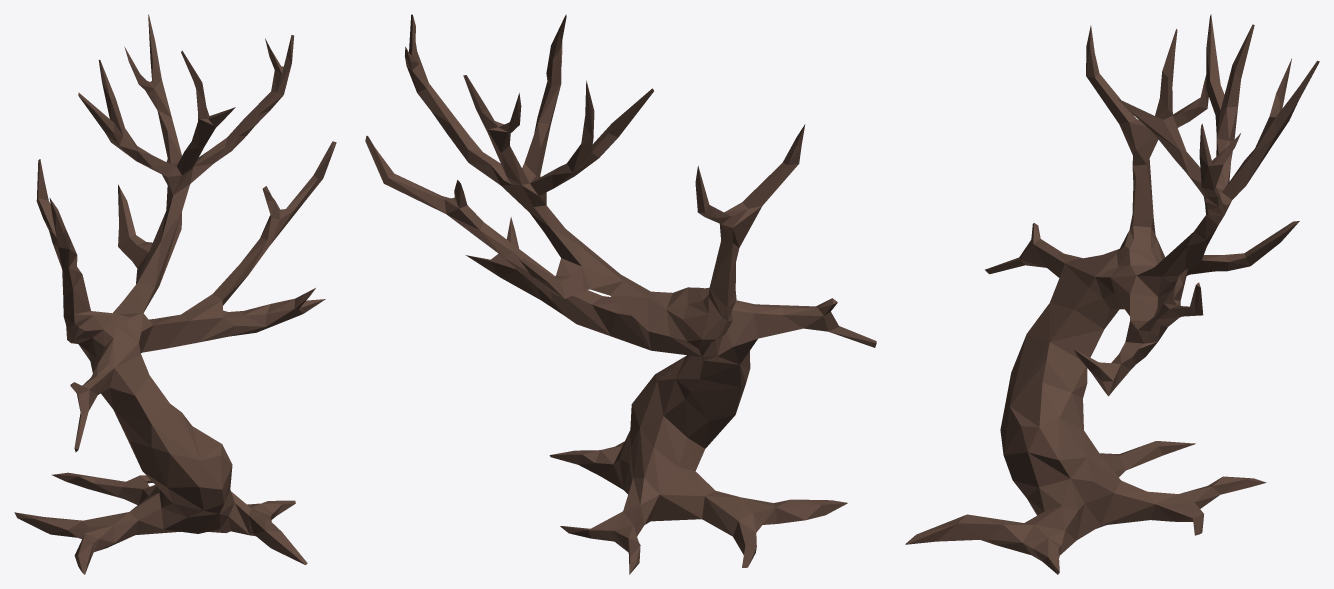
The model's file is tree-06.glb.
The picture shows the model from 3 angles, left to right: view 1: azimuth 30°, elevation 25°; view 2: azimuth 150°, elevation 25°; view 3: azimuth 270°, elevation 25°; orthographic projection. The views are drawn at different scales.
Parts seen in each view (by area): view 1: Tree5_1; view 2: Tree5_1; view 3: Tree5_1.
Part boxes in pixels (x1=…): Tree5_1: x1=14, y1=14, x2=336, y2=574; Tree5_1: x1=365, y1=14, x2=876, y2=574; Tree5_1: x1=905, y1=14, x2=1319, y2=574.
Size of the model in its own units: 13.38 by 16.21 by 11.65.
